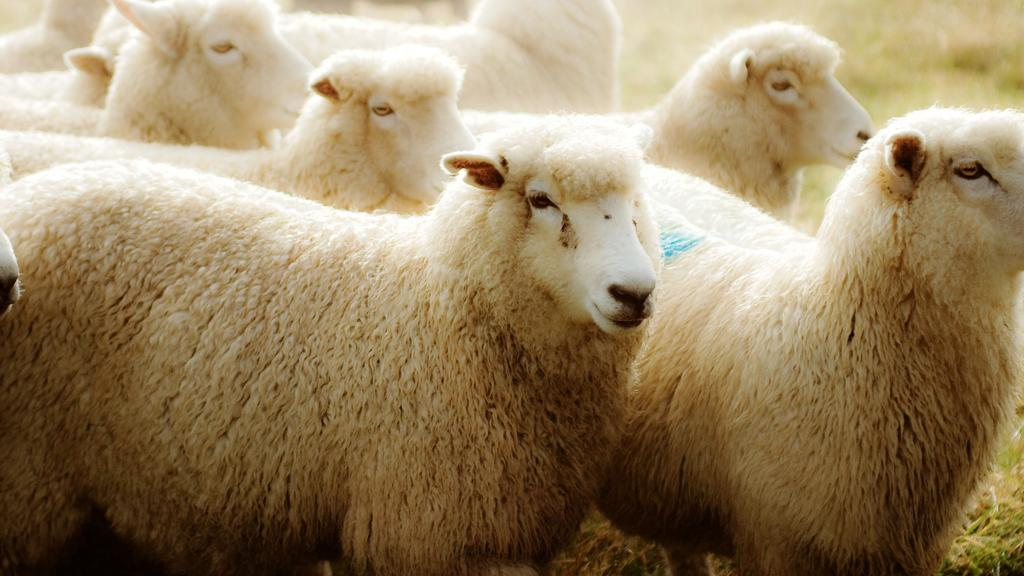Sheep: (0, 118, 677, 576), (564, 90, 1024, 576), (0, 36, 518, 233), (538, 16, 886, 224), (0, 0, 324, 174), (0, 206, 31, 319)
